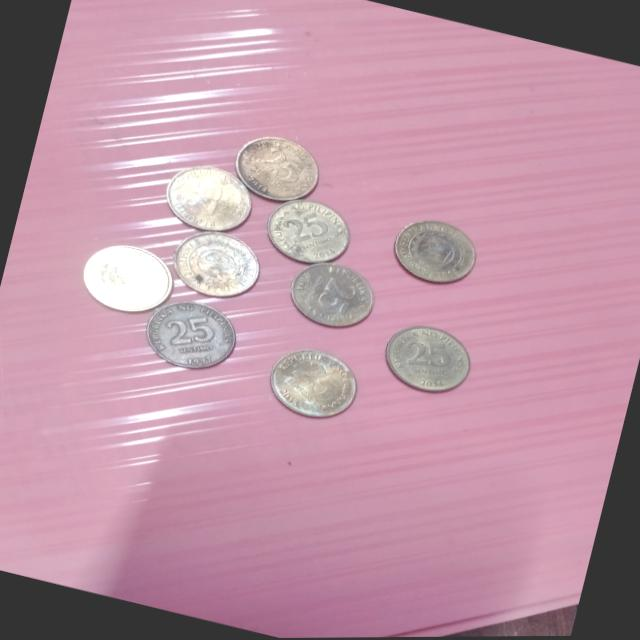25Cent_Old_Front: (264, 194, 351, 265), (381, 323, 467, 392)
